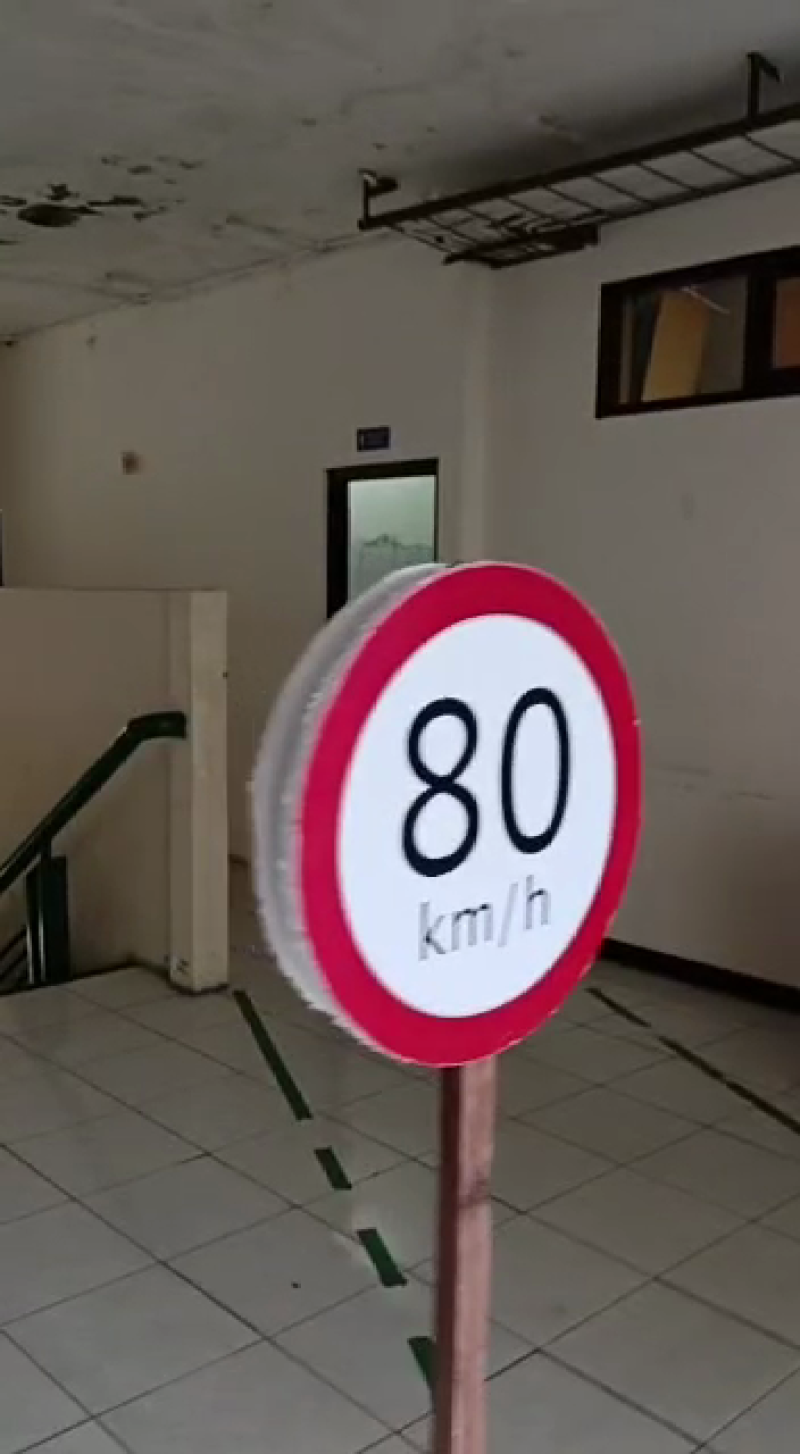batas maksimal 80kmperjam: (279, 557, 648, 1051)
